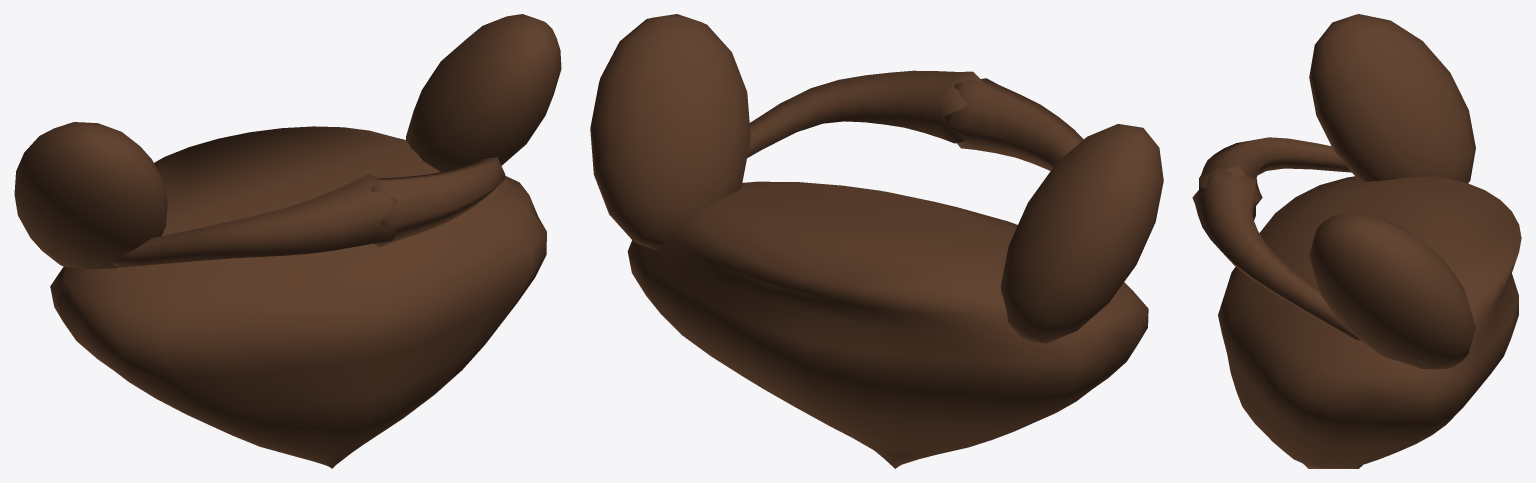
Rendered from beard_full.glb.
The picture shows the model from 3 angles, left to right: view 1: azimuth 30°, elevation 25°; view 2: azimuth 150°, elevation 25°; view 3: azimuth 270°, elevation 25°; orthographic projection. The views are drawn at different scales.
Visible parts, largest first — view 1: BeardFull; view 2: BeardFull; view 3: BeardFull.
Part boxes in pixels (x1=…): BeardFull: x1=14, y1=14, x2=561, y2=468; BeardFull: x1=590, y1=14, x2=1163, y2=468; BeardFull: x1=1192, y1=14, x2=1521, y2=468.
Bounding box in the file's own units: 0.4622 × 0.3199 × 0.2716.
